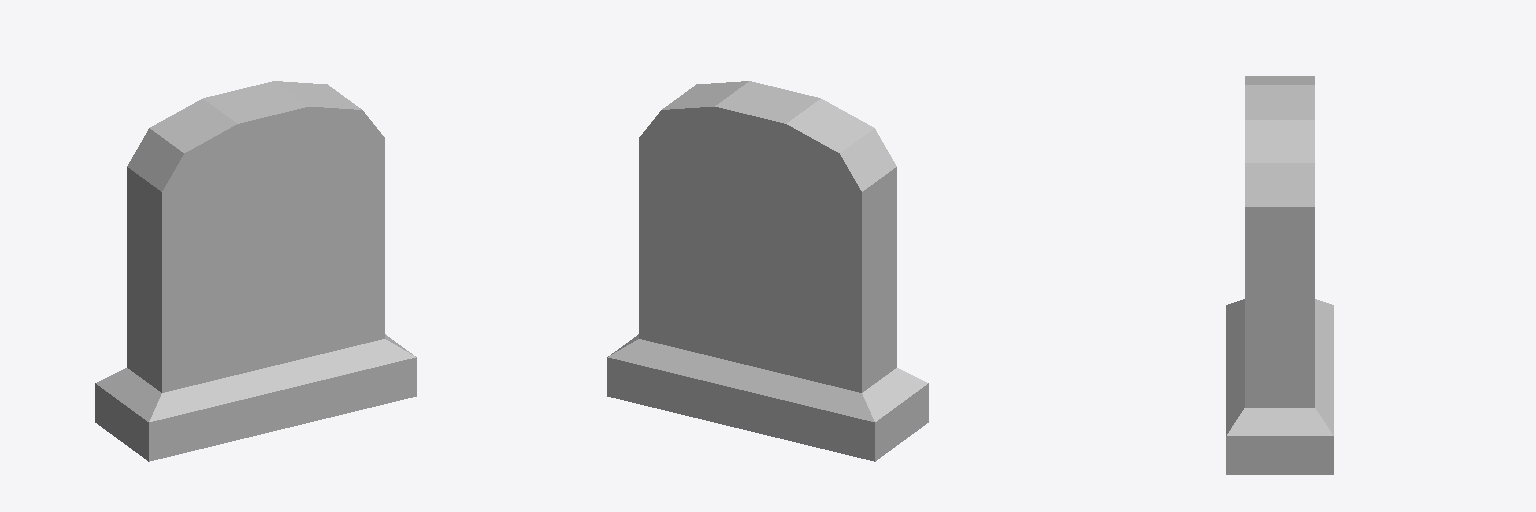
Rendered from grave1.obj.
3 views of the same model, side by side, from view 1: azimuth 30°, elevation 25°; view 2: azimuth 150°, elevation 25°; view 3: azimuth 270°, elevation 25° (orthographic).
Visible parts, largest first — view 1: Tombstone1_Cube.002; view 2: Tombstone1_Cube.002; view 3: Tombstone1_Cube.002.
Part boxes in pixels (x1,y1,x2,y2): Tombstone1_Cube.002: (95, 81, 416, 461); Tombstone1_Cube.002: (607, 81, 928, 461); Tombstone1_Cube.002: (1226, 76, 1333, 474).
Size of the model in its own units: 1.69 by 1.85 by 0.585.